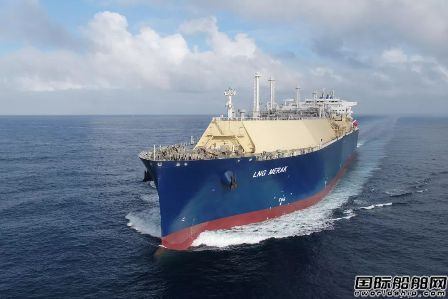Cargoship: (135, 79, 360, 252)
